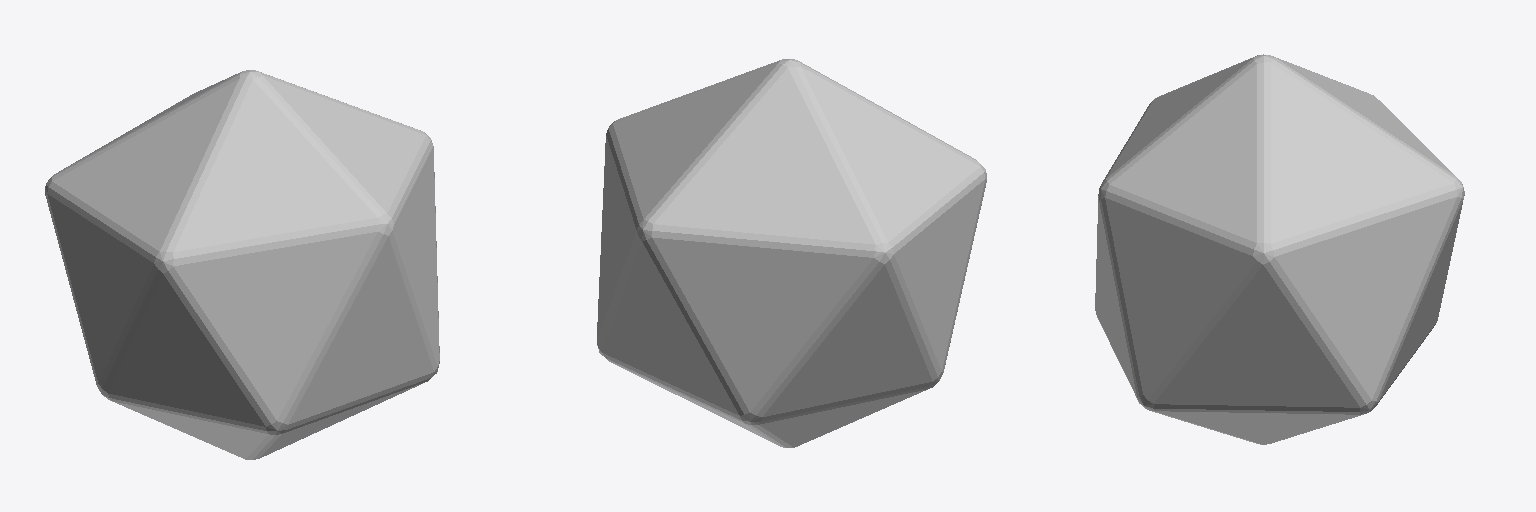
File: gem_type_7.obj
3 renders of one model, left to right at view 1: azimuth 30°, elevation 25°; view 2: azimuth 150°, elevation 25°; view 3: azimuth 270°, elevation 25°, orthographic.
Parts seen in each view (by area): view 1: gem_type_7; view 2: gem_type_7; view 3: gem_type_7.
Part boxes in pixels (left/top/right/bottom): gem_type_7: left=45, top=70, right=439, bottom=459; gem_type_7: left=597, top=59, right=986, bottom=447; gem_type_7: left=1095, top=54, right=1464, bottom=444.
Bounding box in the file's own units: 0.7842 × 0.8665 × 0.7502.